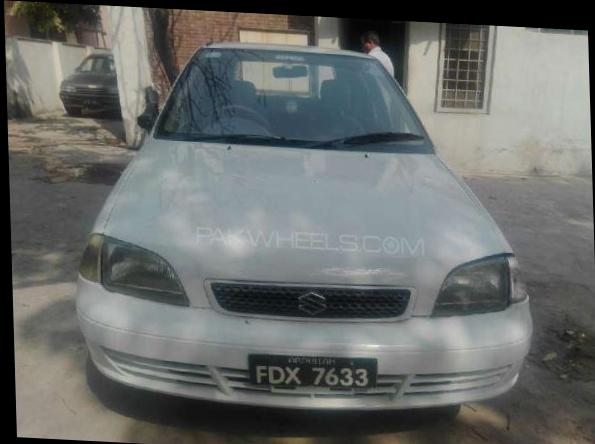License_Plate: (244, 349, 382, 396)
